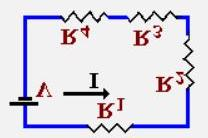Battery: (5, 92, 45, 110)
